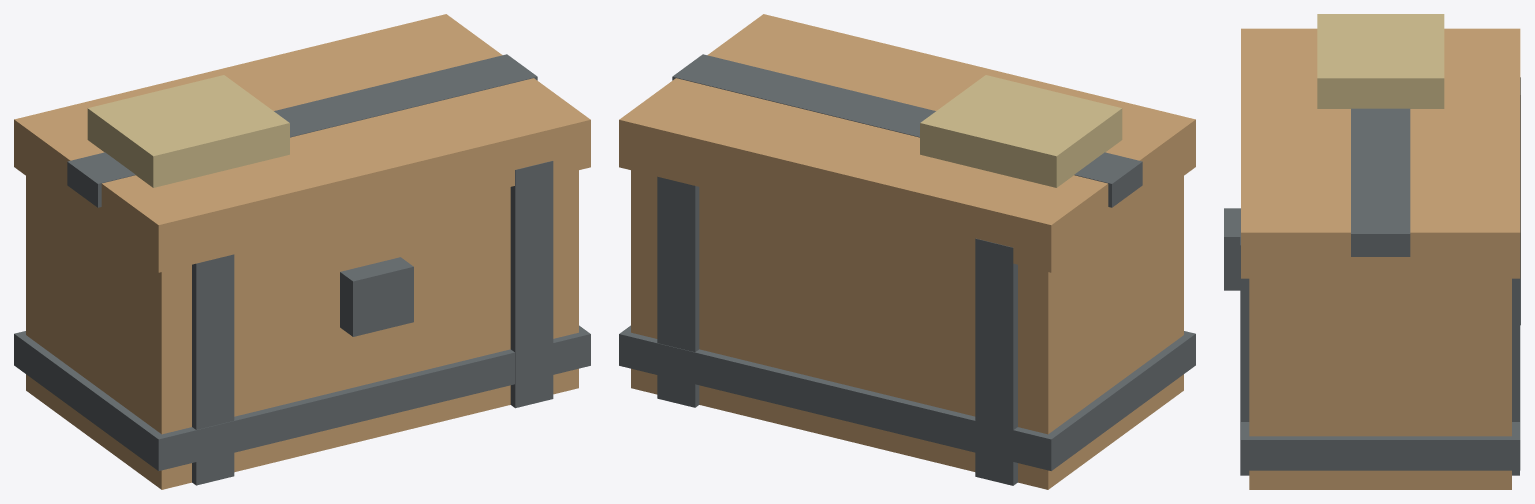
File: farriers-tool-chest.glb
The picture shows the model from 3 angles, left to right: view 1: azimuth 30°, elevation 25°; view 2: azimuth 150°, elevation 25°; view 3: azimuth 270°, elevation 25°; orthographic projection. The views are drawn at different scales.
Parts seen in each view (by area): view 1: farriers-tool-chest, lid/oak, lid/iron; view 2: farriers-tool-chest, lid/oak, lid/iron; view 3: farriers-tool-chest, lid/oak, lid/iron.
Boxes of the visible parts, x1,y1,x2,y2 form: farriers-tool-chest: (14, 75, 590, 489); lid/oak: (14, 14, 590, 272); lid/iron: (67, 54, 537, 207); farriers-tool-chest: (619, 75, 1195, 489); lid/oak: (619, 14, 1195, 272); lid/iron: (672, 54, 1142, 207); farriers-tool-chest: (1224, 14, 1520, 489); lid/oak: (1241, 28, 1520, 278); lid/iron: (1351, 108, 1410, 256).
Size of the model in its own units: 1.16 by 0.76 by 0.7012.
